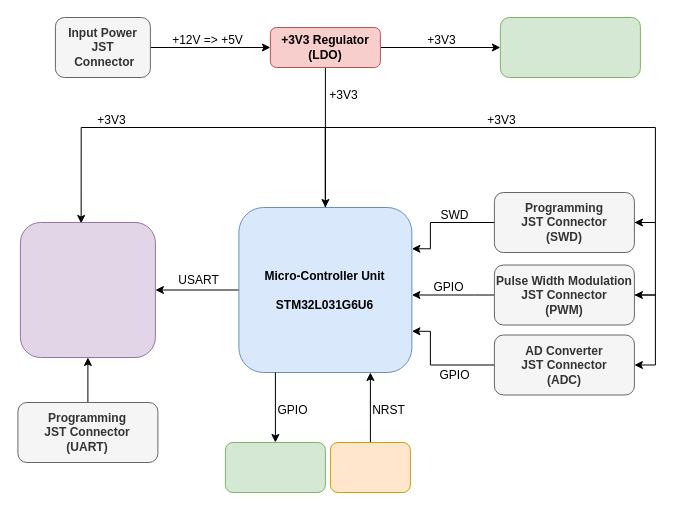
Some shapes in this 681 by 510 pixel diagram are drawn without their labels. Here are the shapes that lost their labels. From the top down, the centre of each, then its label:
At pixel 569 47: "Power LED Indicator".
At pixel 87 290: "WIFI Module (ESP-Wroom-32)".
At pixel 274 467: "Indicator LEDs".
At pixel 369 467: "Reset Button (SW-Push)".
